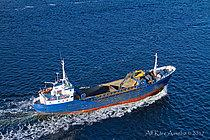Ship: (30, 45, 181, 122)
